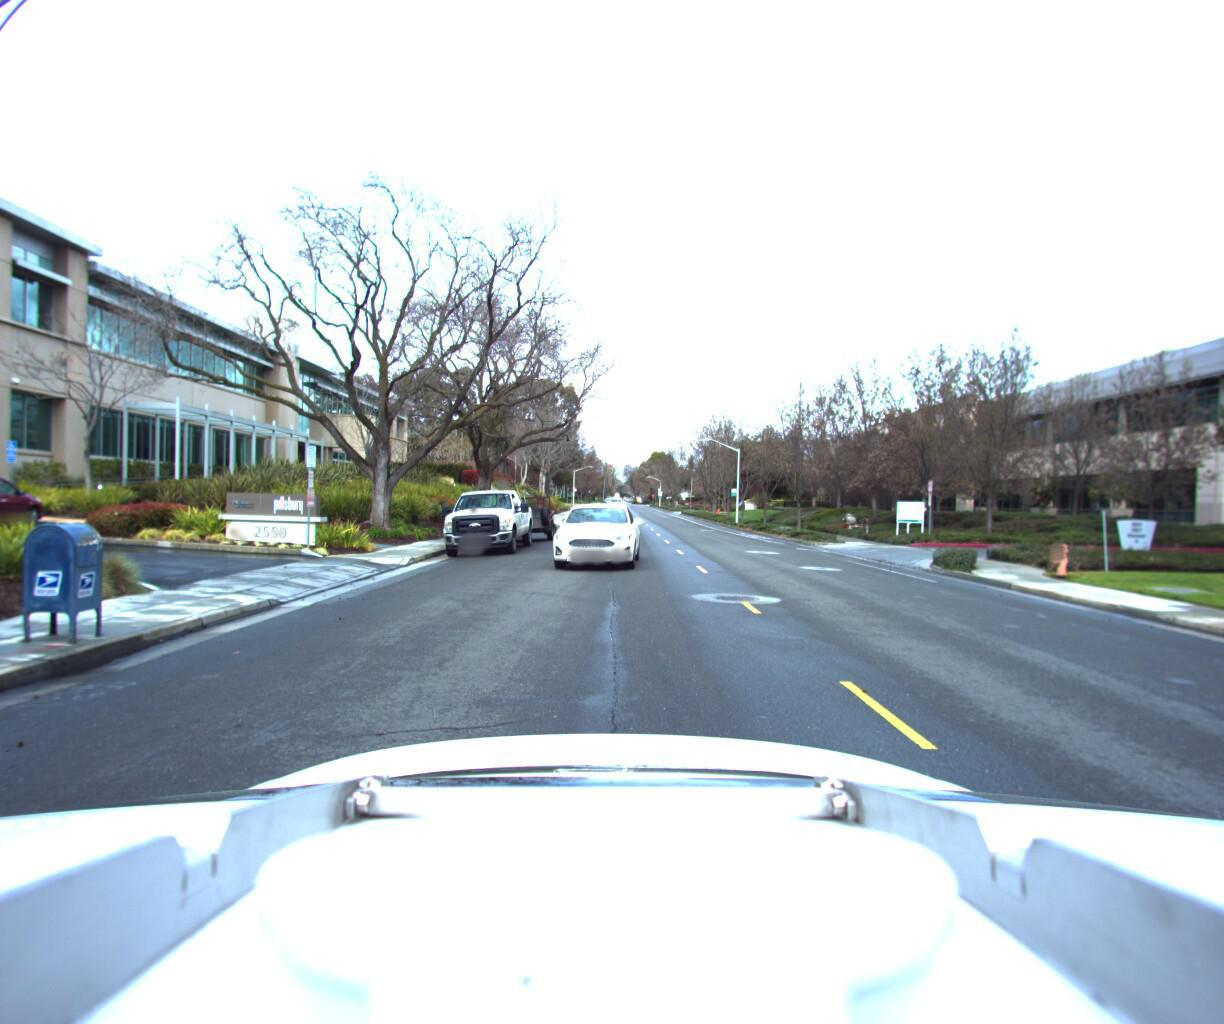car: (422, 480, 554, 553), (543, 497, 646, 573)
